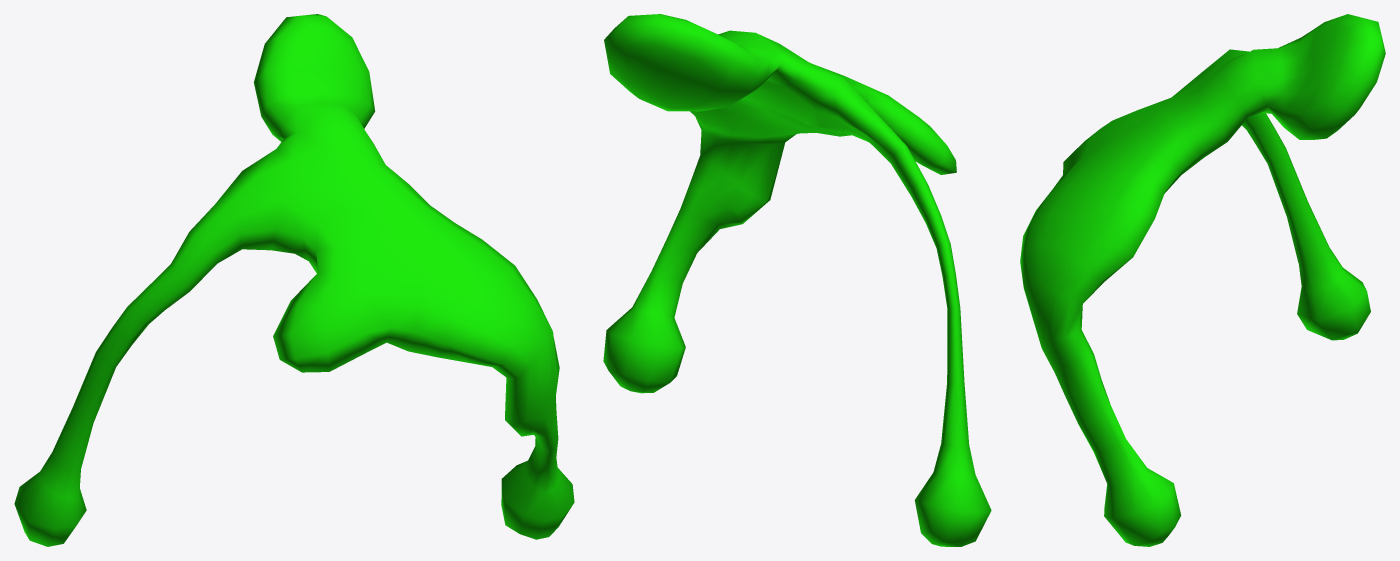
The model's file is p_lorenzo_hairgoop02_pose0.fbx.
The picture shows the model from 3 angles, left to right: view 1: azimuth 30°, elevation 25°; view 2: azimuth 150°, elevation 25°; view 3: azimuth 270°, elevation 25°; orthographic projection. The views are drawn at different scales.
Parts seen in each view (by area): view 1: p_lorenzo_hairgoop02_pose0; view 2: p_lorenzo_hairgoop02_pose0; view 3: p_lorenzo_hairgoop02_pose0.
Part boxes in pixels (x1,y1,x2,y2): p_lorenzo_hairgoop02_pose0: [14, 14, 574, 546]; p_lorenzo_hairgoop02_pose0: [603, 14, 991, 546]; p_lorenzo_hairgoop02_pose0: [1020, 14, 1385, 546].
Bounding box in the file's own units: 1.08 × 1.07 × 0.7664.
